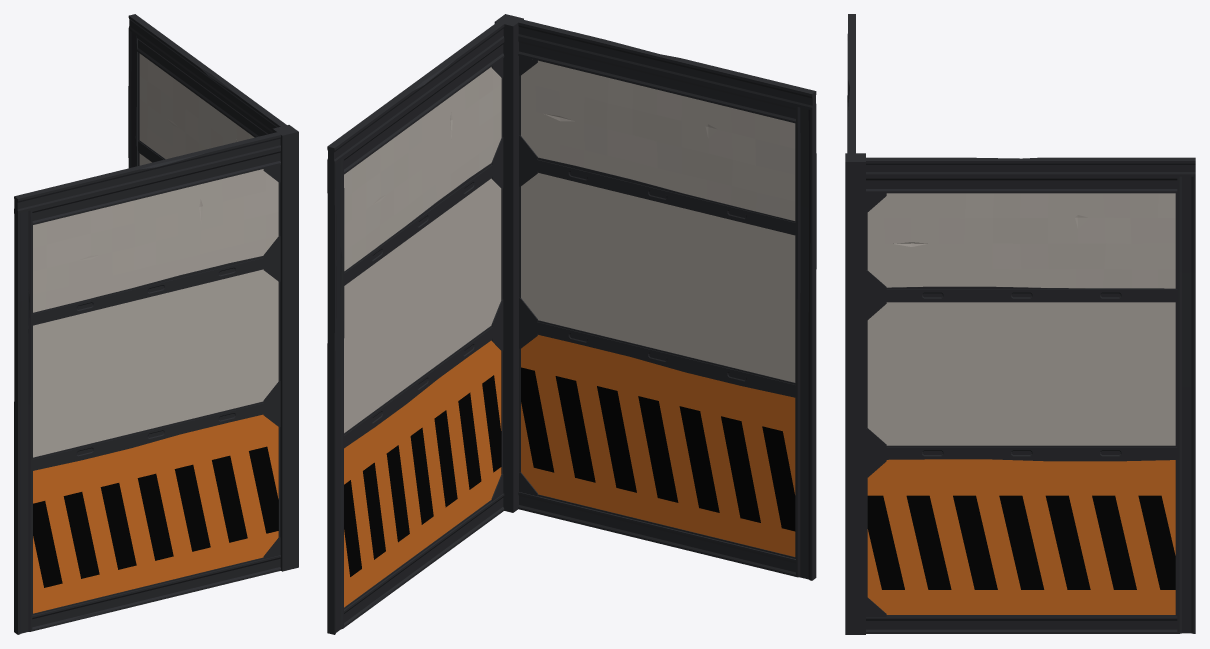
File: SM_Wall_Angle_03.gltf
3 renders of one model, left to right at view 1: azimuth 30°, elevation 25°; view 2: azimuth 150°, elevation 25°; view 3: azimuth 270°, elevation 25°, orthographic. The views are drawn at different scales.
Parts seen in each view (by area): view 1: SM_Wall_Angle_03; view 2: SM_Wall_Angle_03; view 3: SM_Wall_Angle_03.
Part boxes in pixels (<box>): SM_Wall_Angle_03: <box>14,14,298,634</box>; SM_Wall_Angle_03: <box>327,14,816,634</box>; SM_Wall_Angle_03: <box>845,14,1195,634</box>.
Bounding box in the file's own units: 2.01 × 3 × 2.01.
